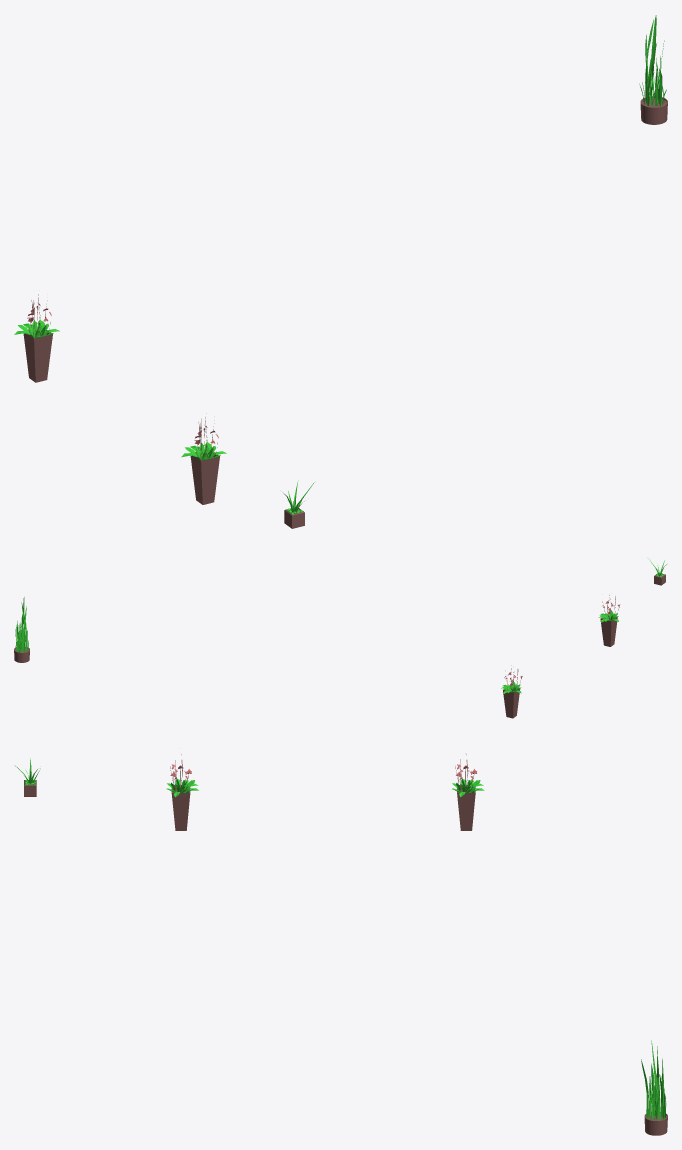
Rendered from Plants.fbx.
3 views of the same model, one above another, from view 1: azimuth 30°, elevation 25°; view 2: azimuth 150°, elevation 25°; view 3: azimuth 270°, elevation 25° (orthographic). The views are drawn at different scales.
Parts seen in each view (by area): view 1: Orchid.001, Orchid, Snake plant.004; view 2: Snake plant.004, Orchid, Orchid.001; view 3: Snake plant.004, Orchid.001, Orchid.
Part boxes in pixels (x1=…): Orchid.001: x1=181, y1=413, x2=226, y2=504; Orchid: x1=14, y1=294, x2=59, y2=382; Snake plant.004: x1=639, y1=15, x2=667, y2=124; Snake plant.004: x1=14, y1=597, x2=29, y2=662; Orchid: x1=501, y1=665, x2=522, y2=718; Orchid.001: x1=598, y1=595, x2=620, y2=646; Snake plant.004: x1=641, y1=1040, x2=667, y2=1135; Orchid.001: x1=166, y1=754, x2=198, y2=830; Orchid: x1=452, y1=753, x2=484, y2=830.
Bounding box in the file's own units: 1798 × 245 × 1570.
